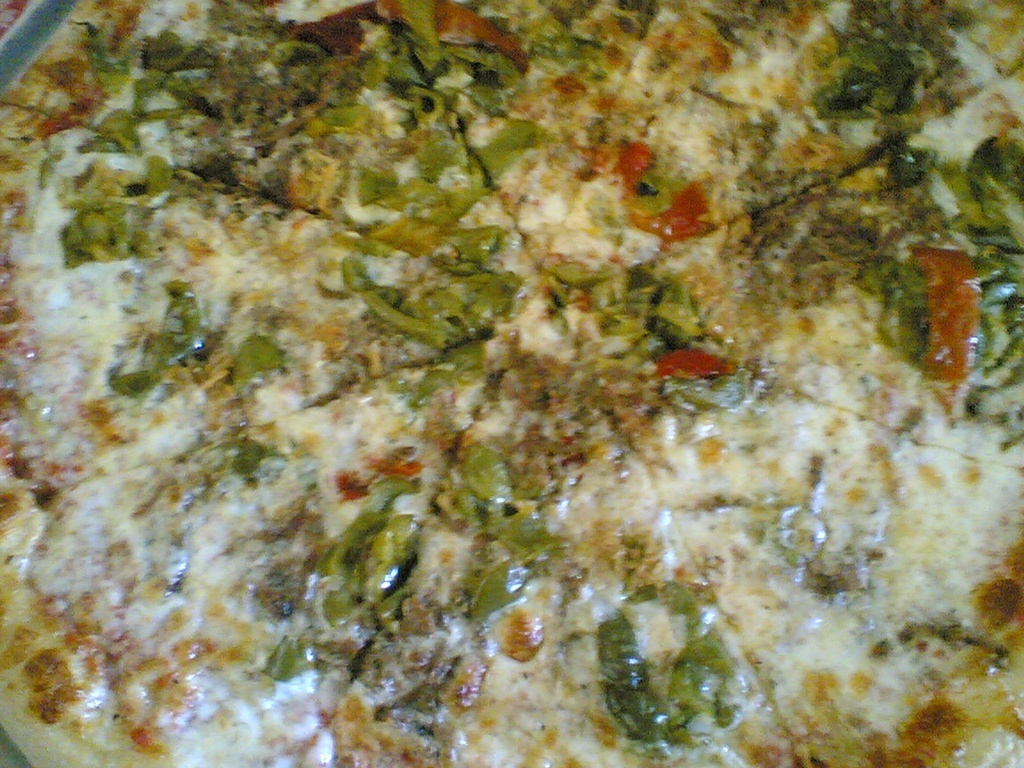Pizza: (0, 17, 1024, 768)
